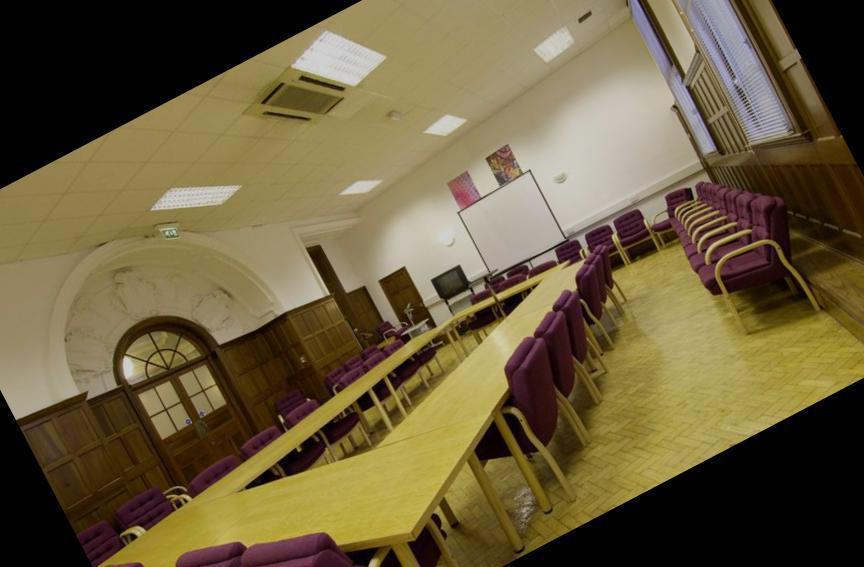Puerta: (133, 347, 254, 473)
